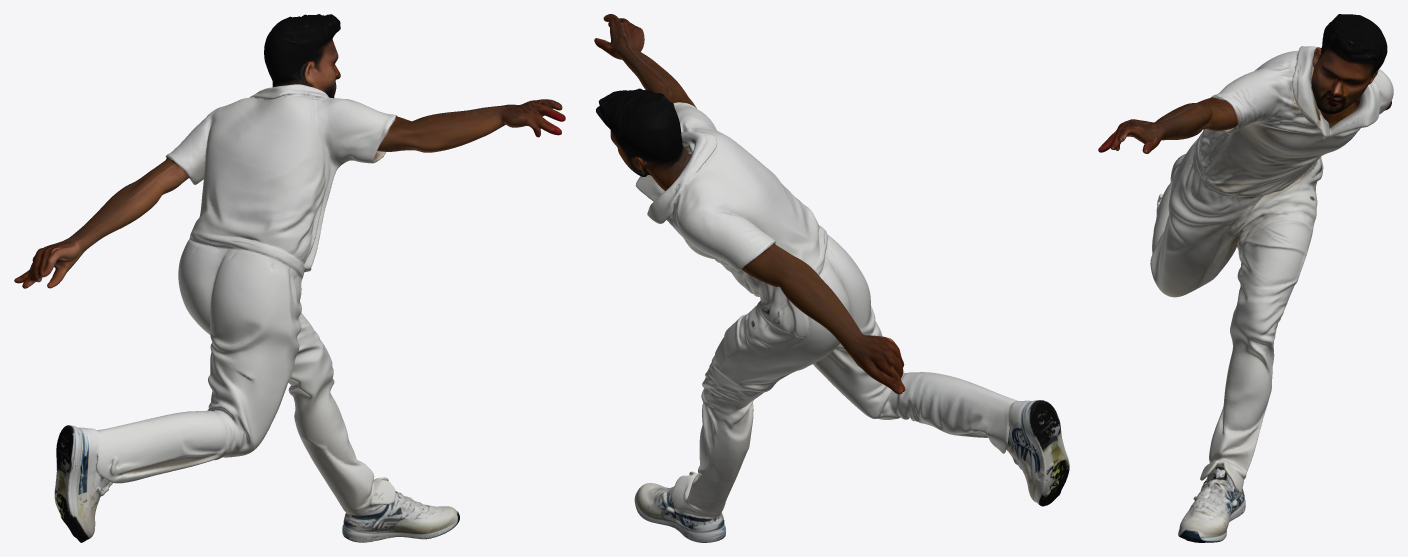
File: player.glb
3 views of the same model, side by side, from view 1: azimuth 30°, elevation 25°; view 2: azimuth 150°, elevation 25°; view 3: azimuth 270°, elevation 25° (orthographic). The views are drawn at different scales.
Visible parts, largest first — view 1: tripo_node_267e9ab4-de75-4f5e-9691-167f2bc41ac6; view 2: tripo_node_267e9ab4-de75-4f5e-9691-167f2bc41ac6; view 3: tripo_node_267e9ab4-de75-4f5e-9691-167f2bc41ac6.
Part boxes in pixels (<box>): tripo_node_267e9ab4-de75-4f5e-9691-167f2bc41ac6: <box>14,14,565,542</box>; tripo_node_267e9ab4-de75-4f5e-9691-167f2bc41ac6: <box>594,14,1069,542</box>; tripo_node_267e9ab4-de75-4f5e-9691-167f2bc41ac6: <box>1098,14,1393,542</box>.
Bounding box in the file's own units: 1 × 0.9603 × 0.5231.
1 material, 1 textured.
